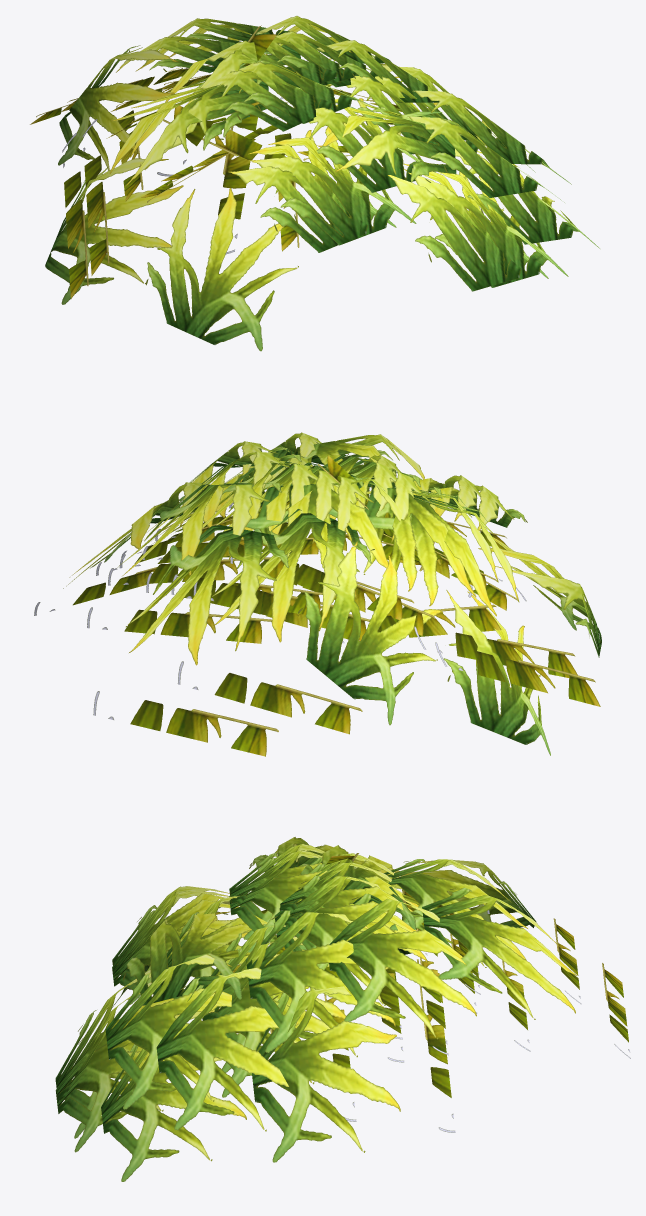
The model's file is shuye_001.FBX.
The picture shows the model from 3 angles, top to bottom: view 1: azimuth 30°, elevation 25°; view 2: azimuth 150°, elevation 25°; view 3: azimuth 270°, elevation 25°; orthographic projection. The views are drawn at different scales.
Visible parts, largest first — view 1: Object242; view 2: Object242; view 3: Object242.
Boxes of the visible parts, left/top/right/bottom form: Object242: left=30, top=16, right=599, bottom=351; Object242: left=34, top=432, right=601, bottom=756; Object242: left=55, top=837, right=630, bottom=1181.
Bounding box in the file's own units: 203 × 105 × 214.
